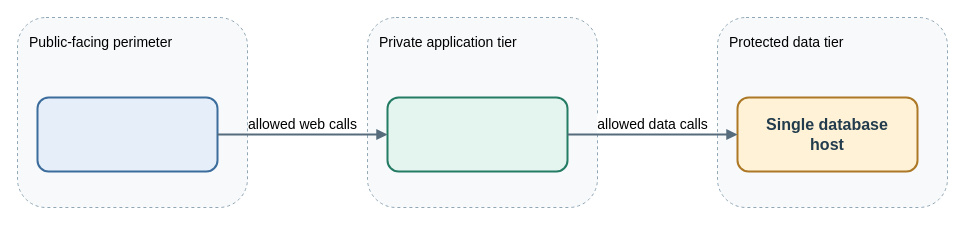
This 965x225 diagram has some shape labels left out. Here are the shapes that lost their labels. From the top down, the centre of each, then its label:
point (127, 134): Reverse proxy copies
point (477, 134): Application servers
